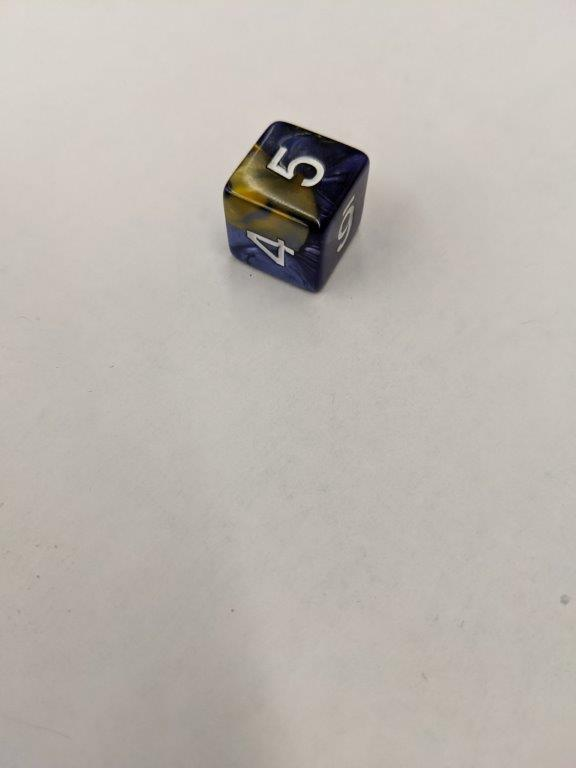d6-5: (221, 120, 370, 296)
